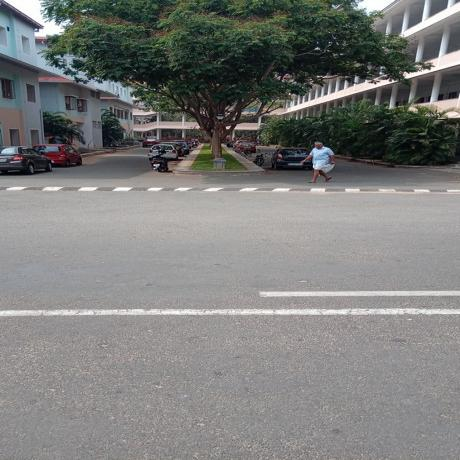Speed Bump: (0, 185, 459, 193)
